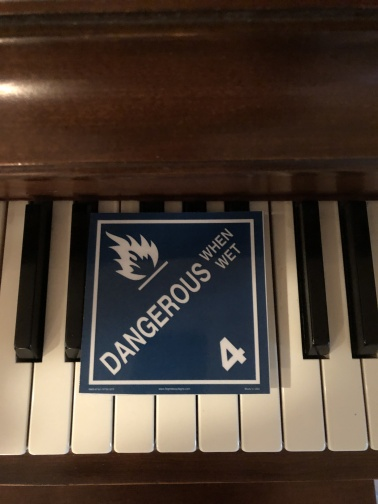DangerousWhenWet: (93, 215, 263, 393)
